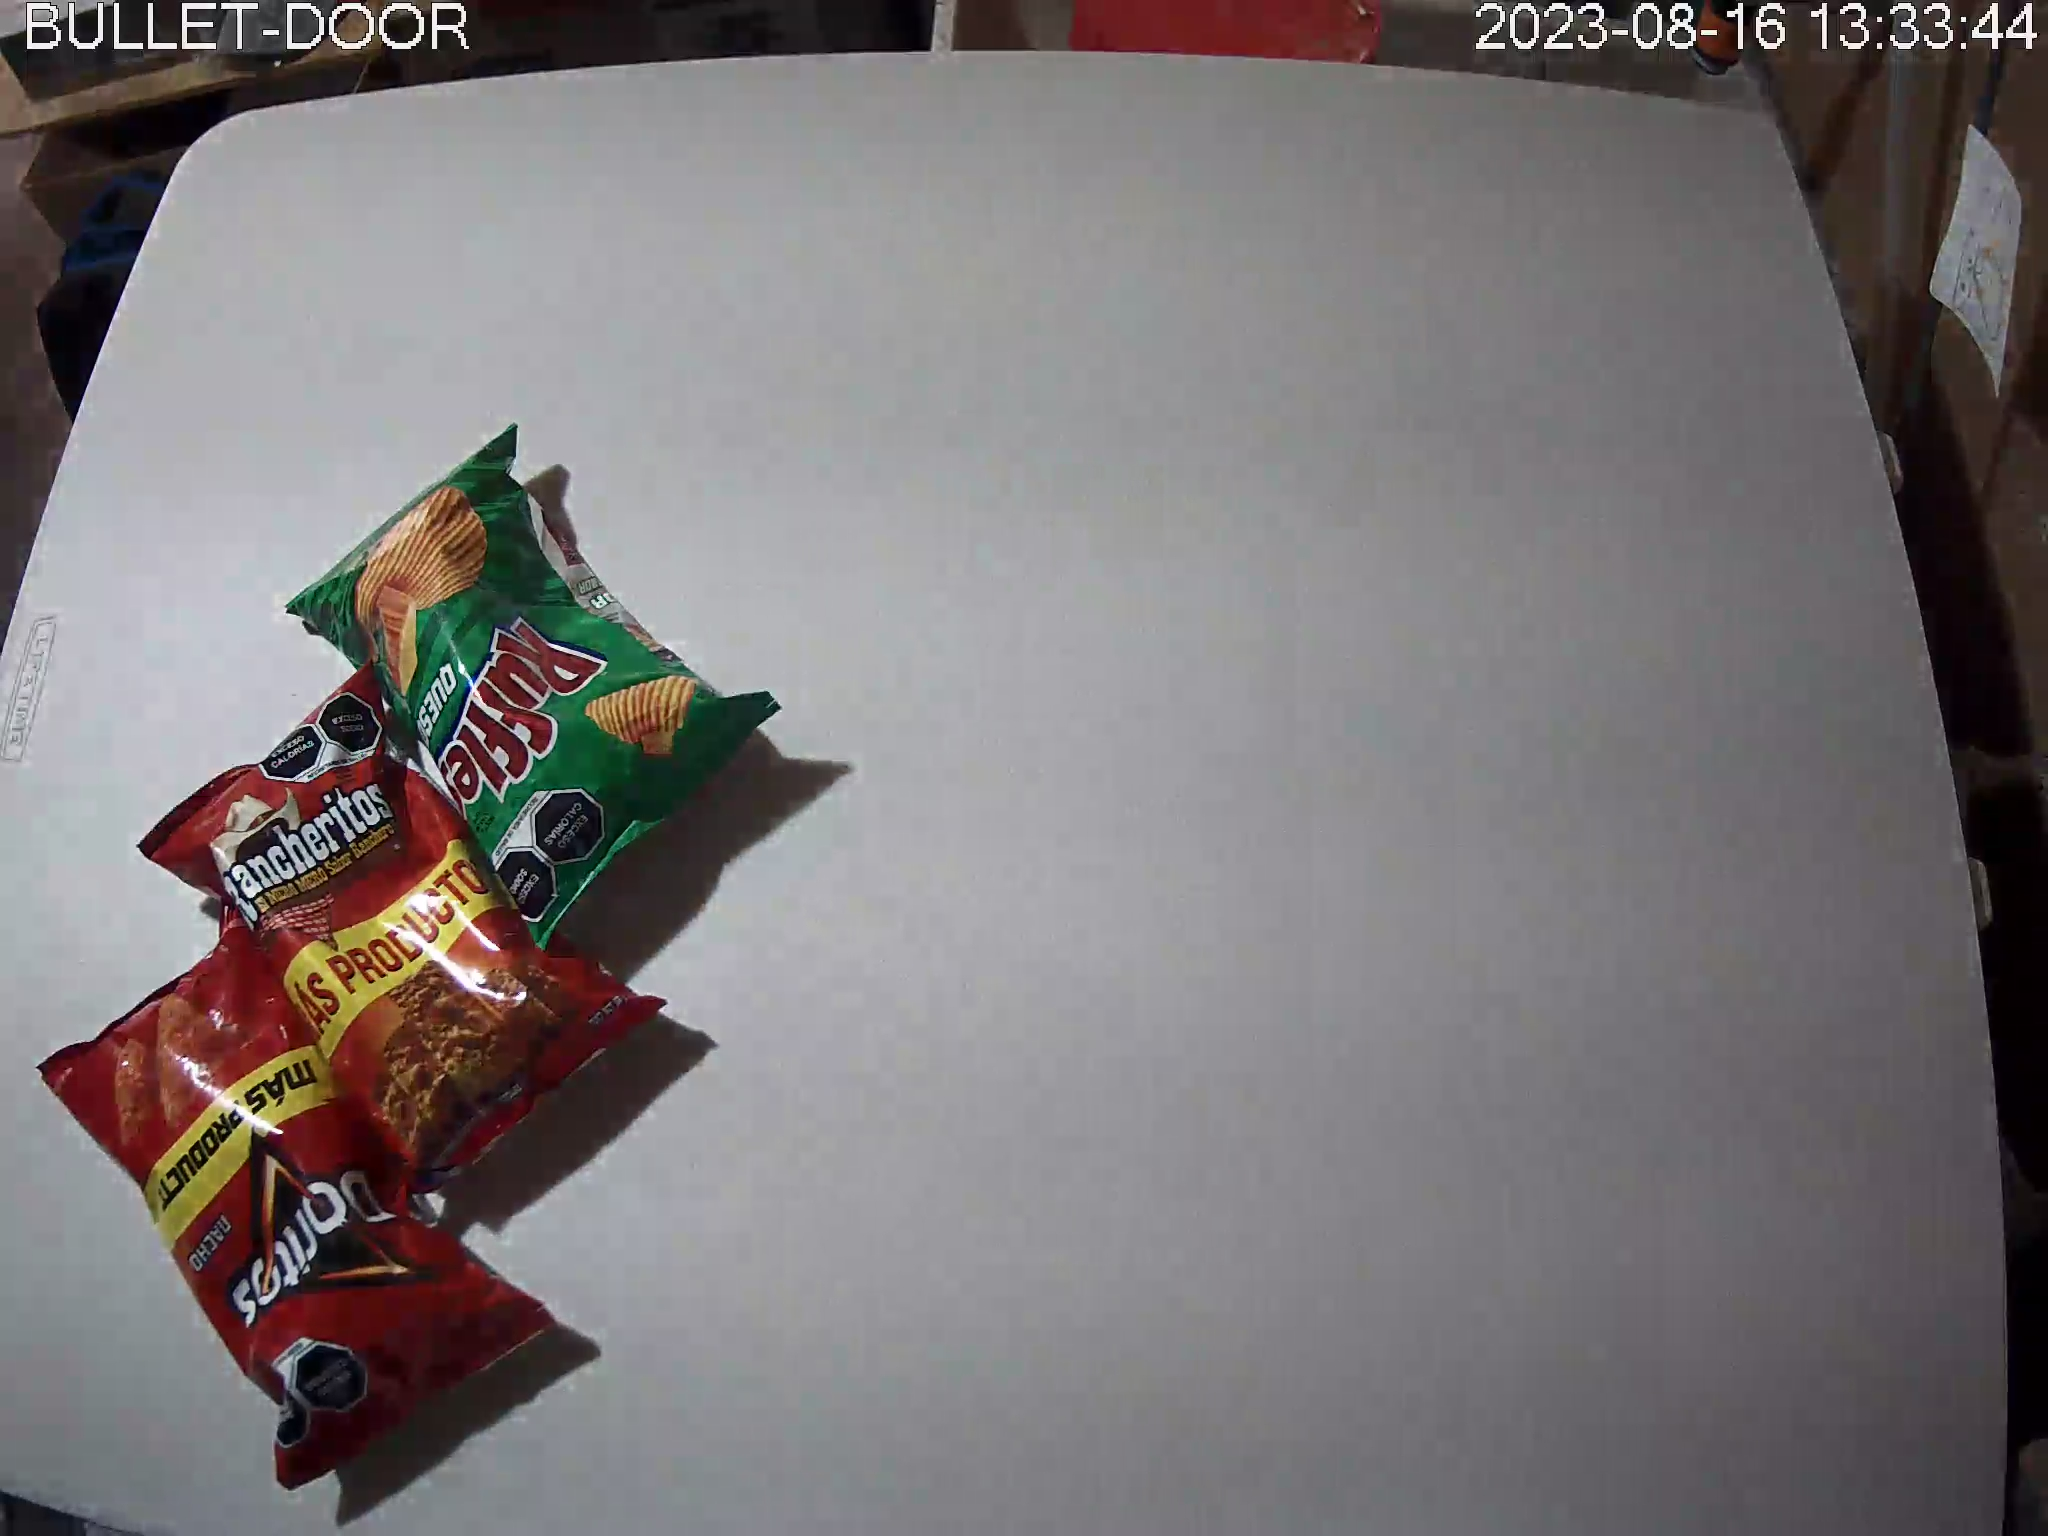DoritosN_61_F: (35, 907, 560, 1496)
Rancheritos_58_F: (139, 666, 669, 1217)
RufflesQ_48_F: (284, 421, 782, 952)
